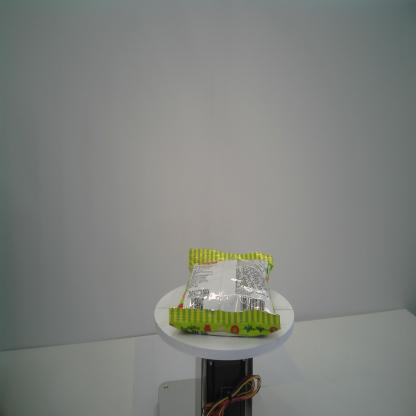Puffed Food: (168, 248, 281, 339)
